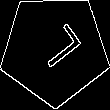L_SW: (26, 22, 83, 77)
